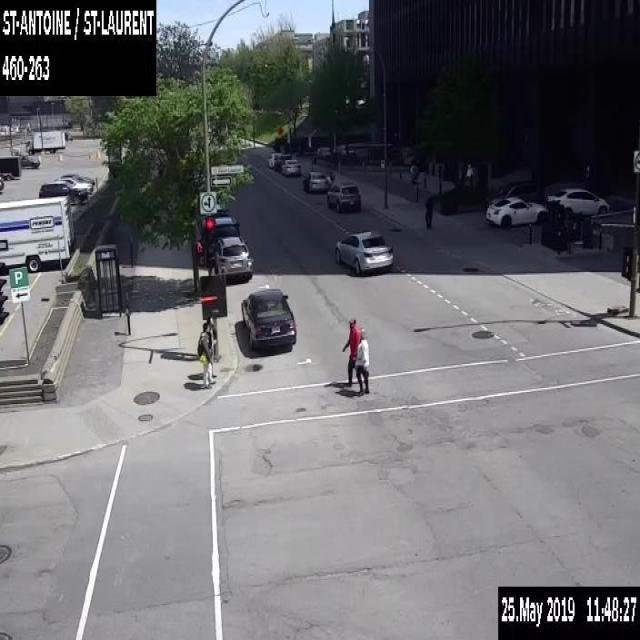construction: (275, 125, 283, 134)
pedestrian: (340, 318, 359, 385), (196, 321, 214, 388), (354, 327, 370, 394), (206, 315, 217, 377), (424, 192, 433, 230), (465, 162, 472, 184)
vehicle: (0, 193, 75, 271), (240, 287, 296, 349), (334, 228, 393, 275), (210, 234, 254, 285), (484, 195, 548, 228), (205, 214, 240, 268), (545, 186, 610, 213), (38, 180, 87, 203), (326, 181, 361, 213), (26, 129, 65, 154), (201, 202, 231, 230), (302, 168, 334, 192), (54, 176, 92, 194), (0, 155, 21, 180), (60, 173, 94, 185), (280, 158, 300, 176), (273, 152, 290, 171), (20, 154, 39, 167), (268, 152, 282, 167), (0, 179, 3, 189)
